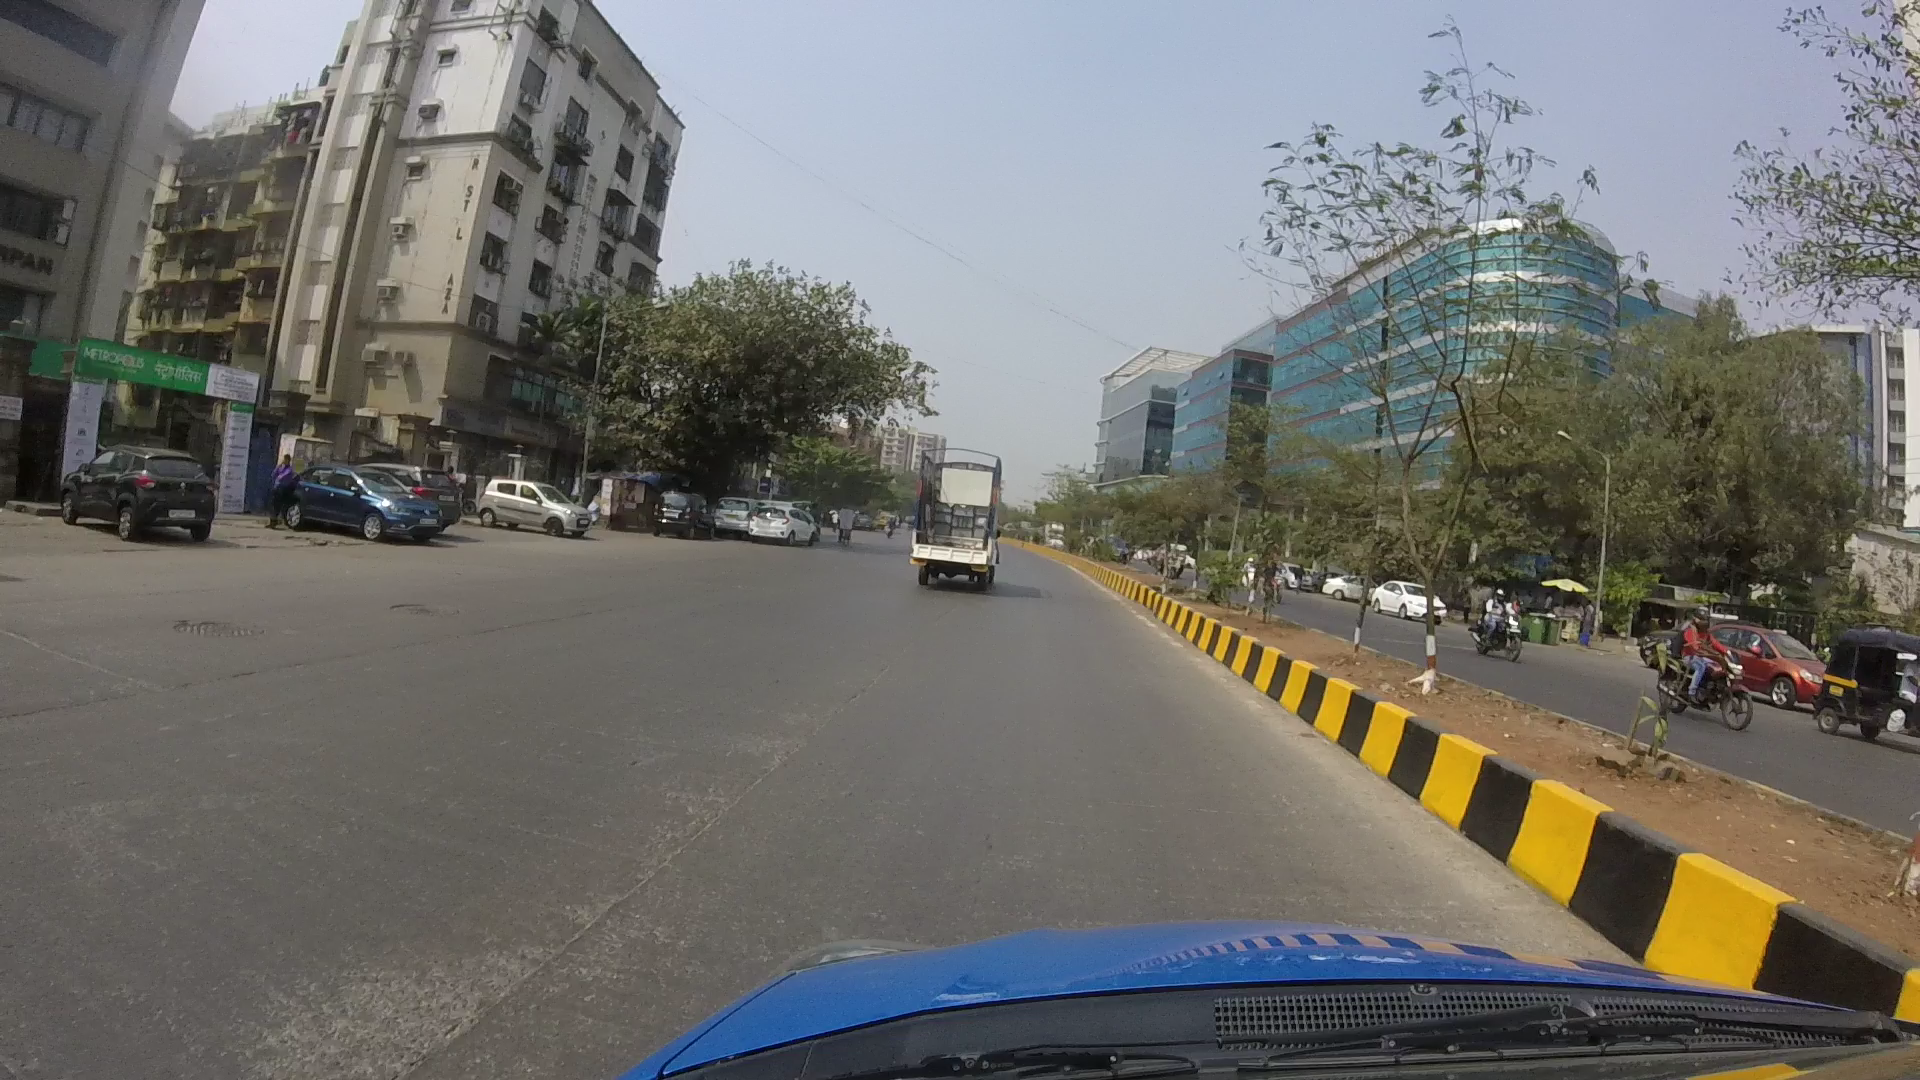bike/scooter: (1636, 607, 1762, 744), (1460, 572, 1530, 667)
car: (49, 419, 225, 547), (282, 454, 436, 553), (473, 450, 613, 547), (1702, 615, 1821, 705), (651, 483, 717, 555), (738, 500, 818, 547)
rickshaw: (1813, 634, 1920, 761)
truck: (897, 430, 1029, 593)
